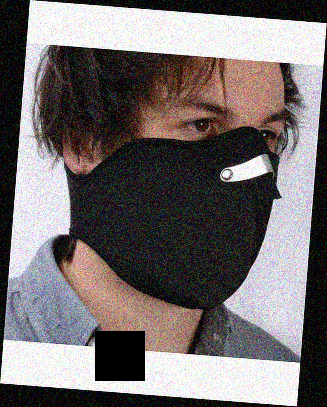with_mask: (92, 91, 281, 311)
